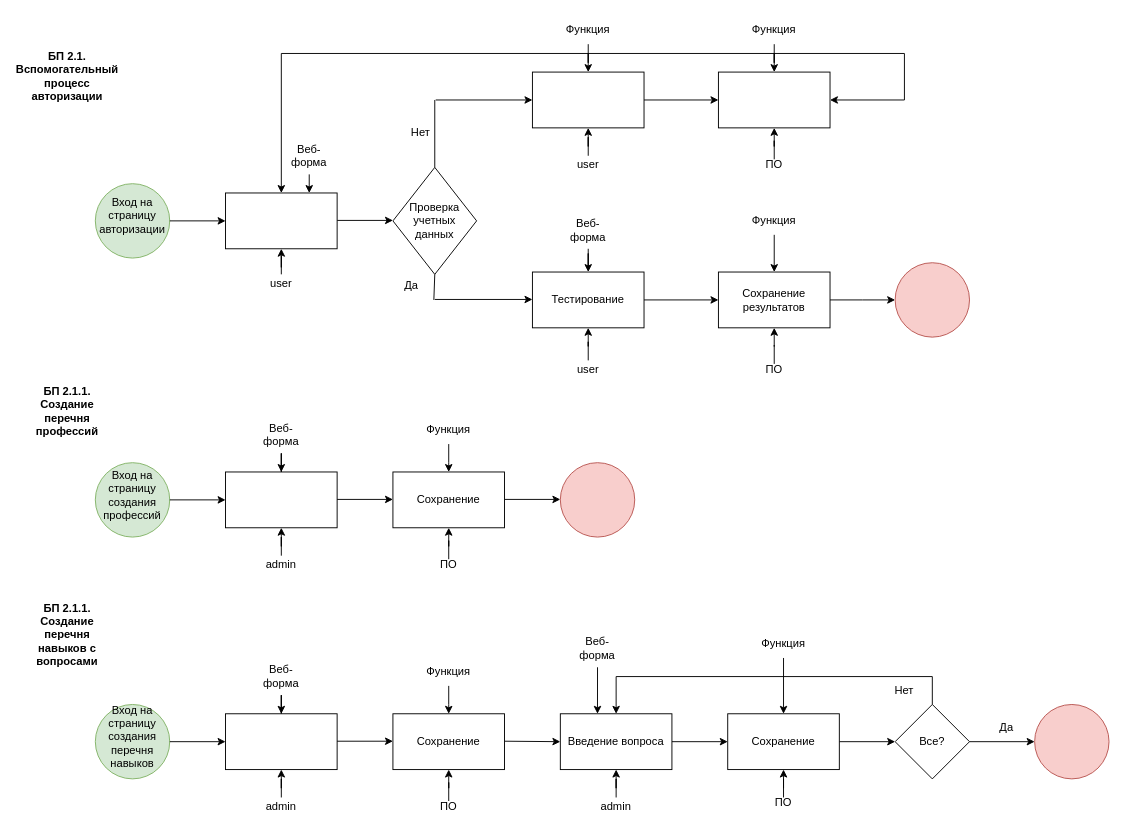
Some shapes in this 1125 by 831 pixel diagram are drawn without their labels. Each missing label, with the centre of its shape:
Введение названия навыка: [281,741]
Введение названия профессии: [281,499]
Введение учетных данных: [281,220]
Дать новый пароль: [773,99]
Требуется напоминание: [587,99]
